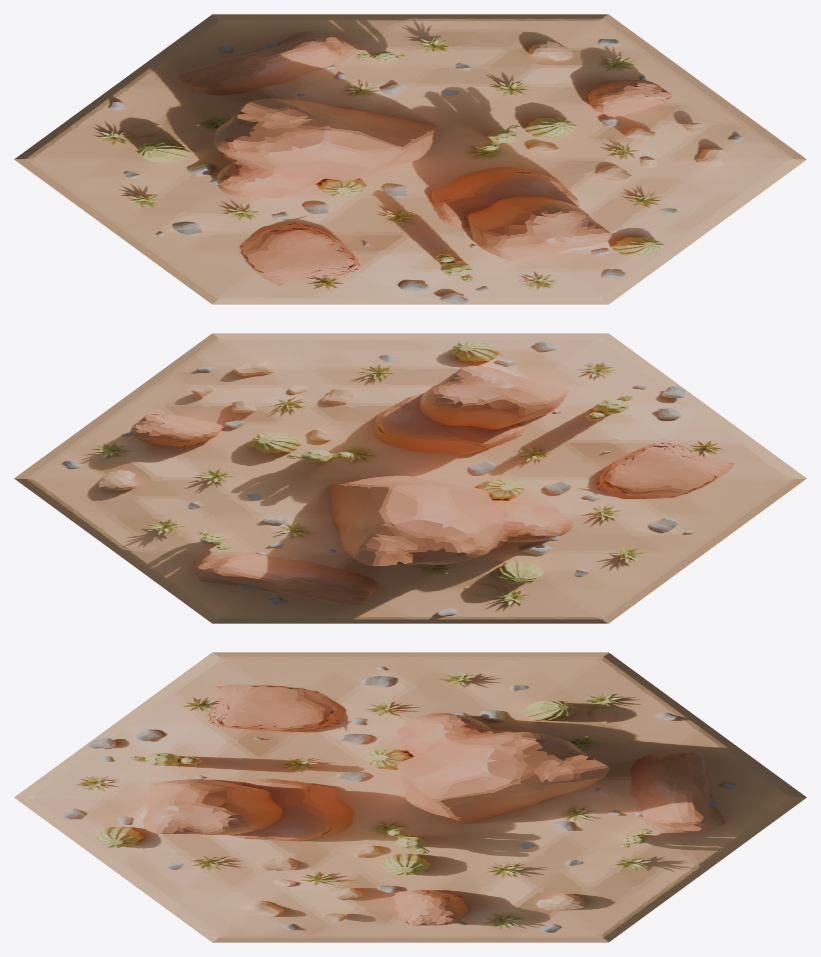
File: temperateDesert.glb
3 renders of one model, top to bottom at view 1: azimuth 30°, elevation 25°; view 2: azimuth 150°, elevation 25°; view 3: azimuth 270°, elevation 25°, orthographic.
Visible parts, largest first — view 1: Deciduousforest_flat; view 2: Deciduousforest_flat; view 3: Deciduousforest_flat.
Part boxes in pixels (x1,y1,x2,y2): Deciduousforest_flat: [14, 14, 806, 304]; Deciduousforest_flat: [14, 333, 806, 623]; Deciduousforest_flat: [14, 652, 806, 942].
Bounding box in the file's own units: 1.73 × 4.47e-08 × 2.
1 material, 1 textured.
